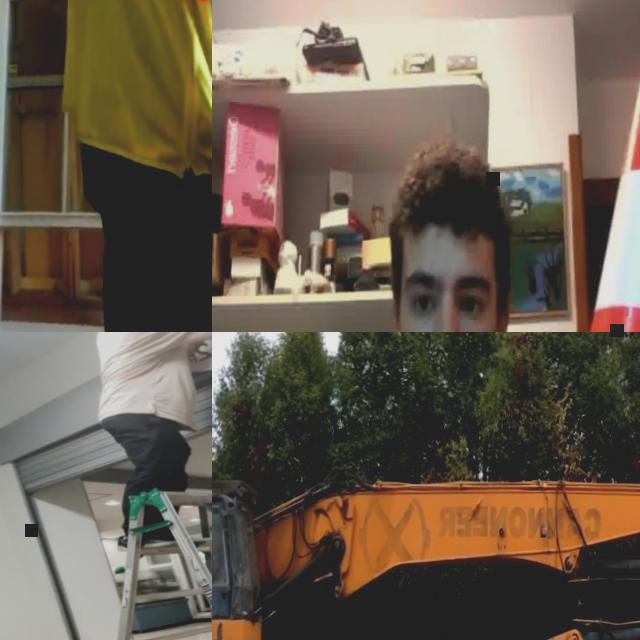machinery: (236, 442, 640, 640), (212, 474, 327, 640)
no_helmet: (396, 141, 504, 259)
no_vest: (93, 332, 196, 424)
person: (275, 134, 640, 332), (67, 0, 212, 332), (92, 332, 212, 550)
safety_cone: (508, 50, 640, 332)
vest: (55, 0, 212, 186)
